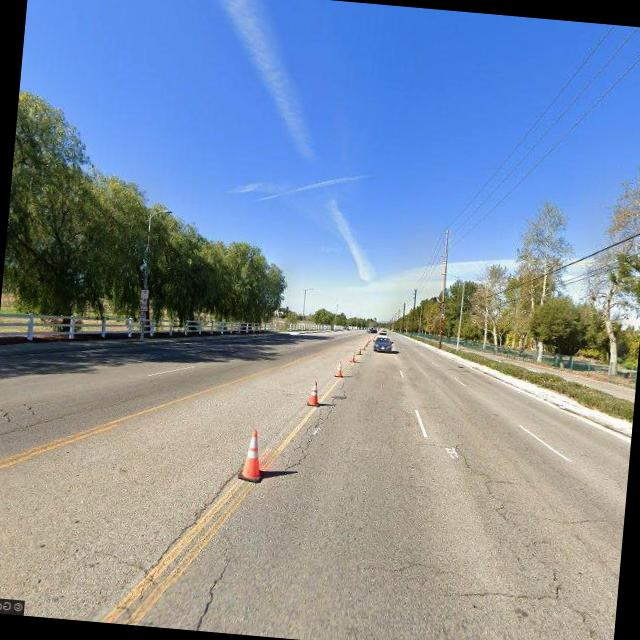crack: (436, 439, 620, 640), (136, 444, 242, 576), (352, 548, 564, 609), (272, 362, 355, 488), (186, 549, 236, 632), (515, 505, 624, 531)
